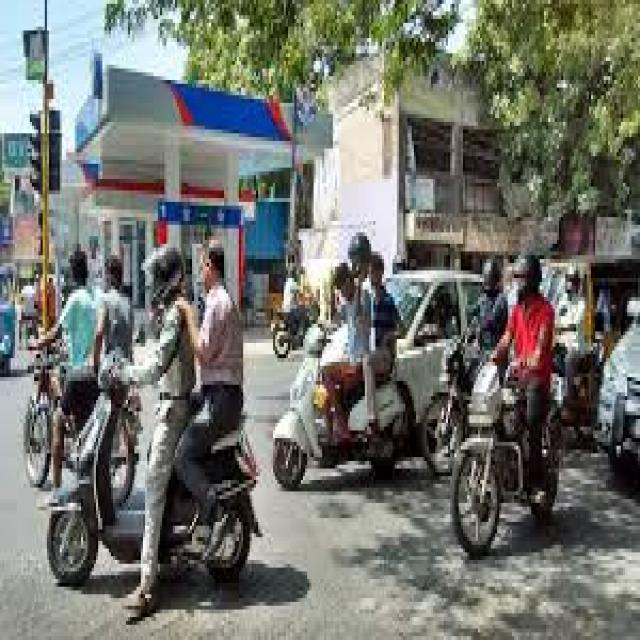No Helmet: (322, 184, 457, 380)
helmet: (111, 117, 196, 357), (483, 206, 568, 377)
